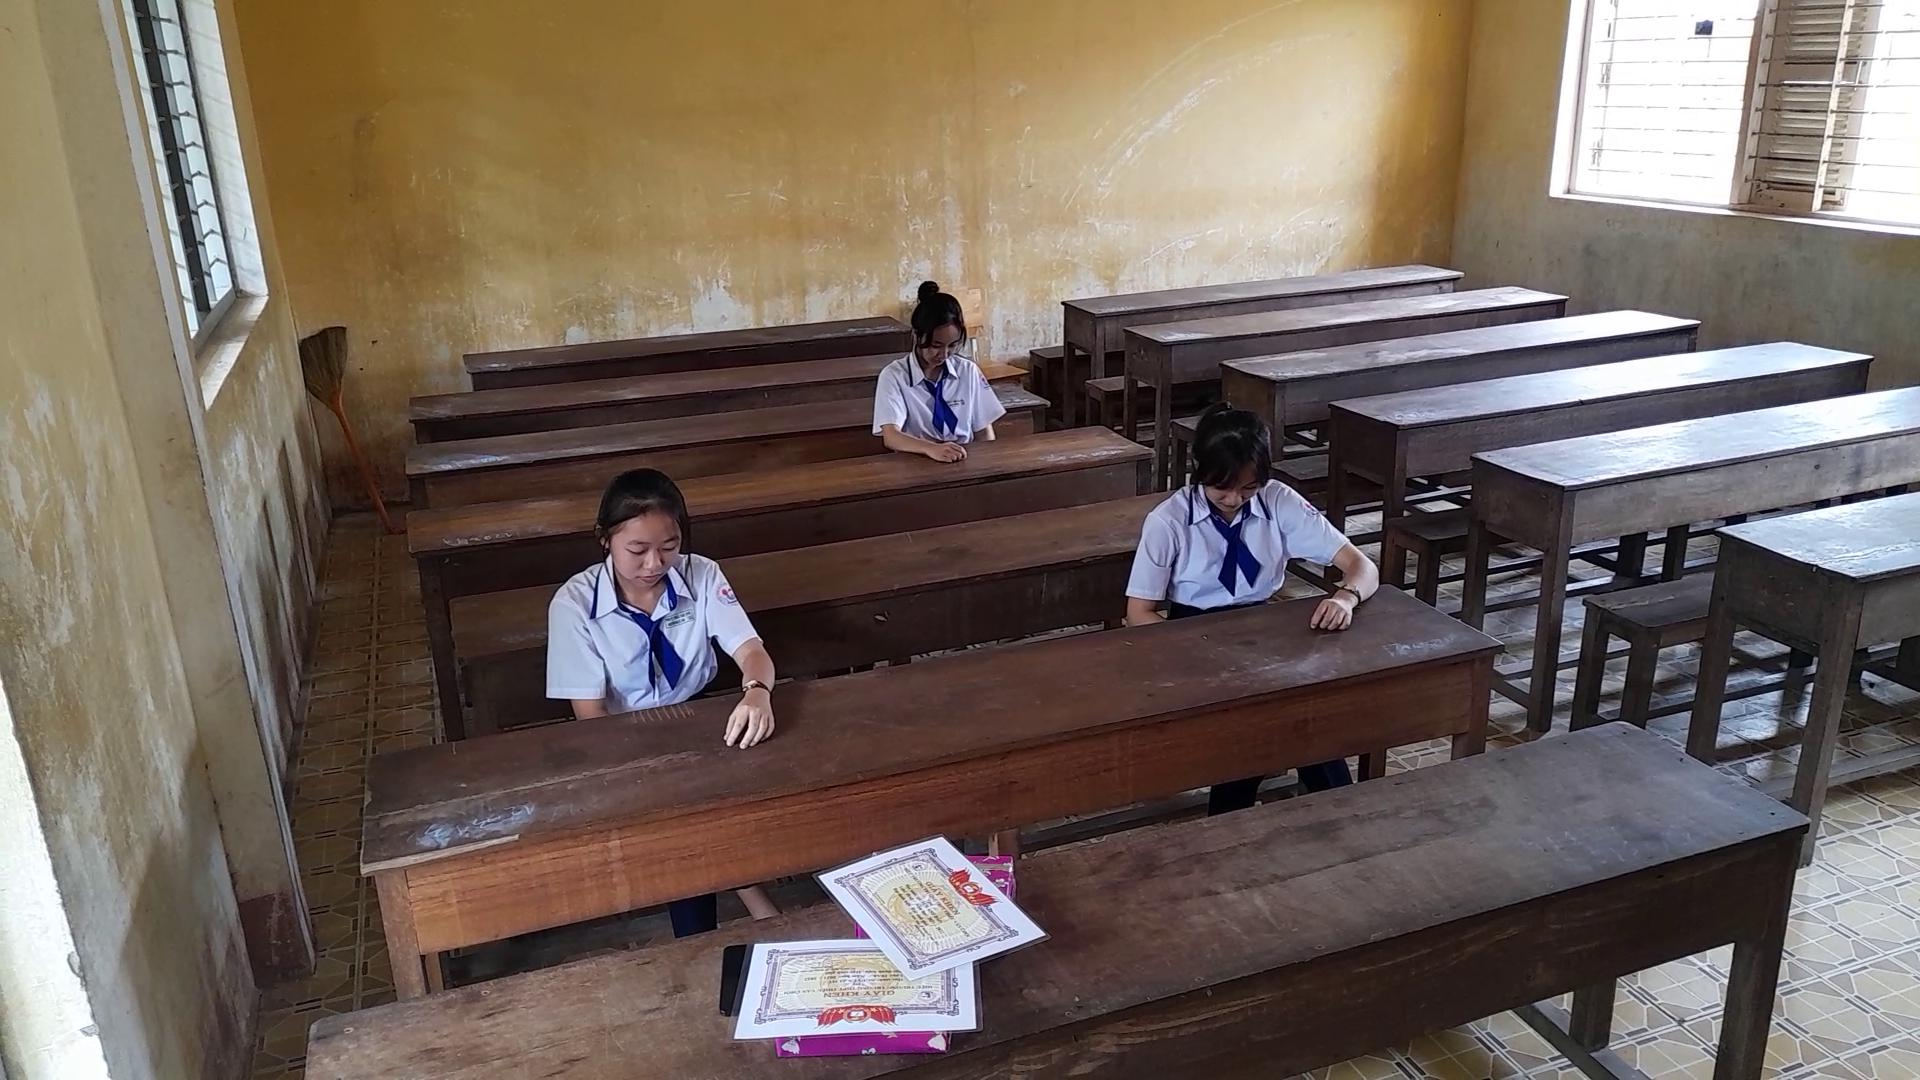Bend Over The Desk: (574, 458, 712, 611), (1172, 376, 1309, 530), (893, 257, 989, 378)
Hand Under Table: (543, 568, 613, 733), (1118, 491, 1188, 655), (965, 353, 998, 462)
